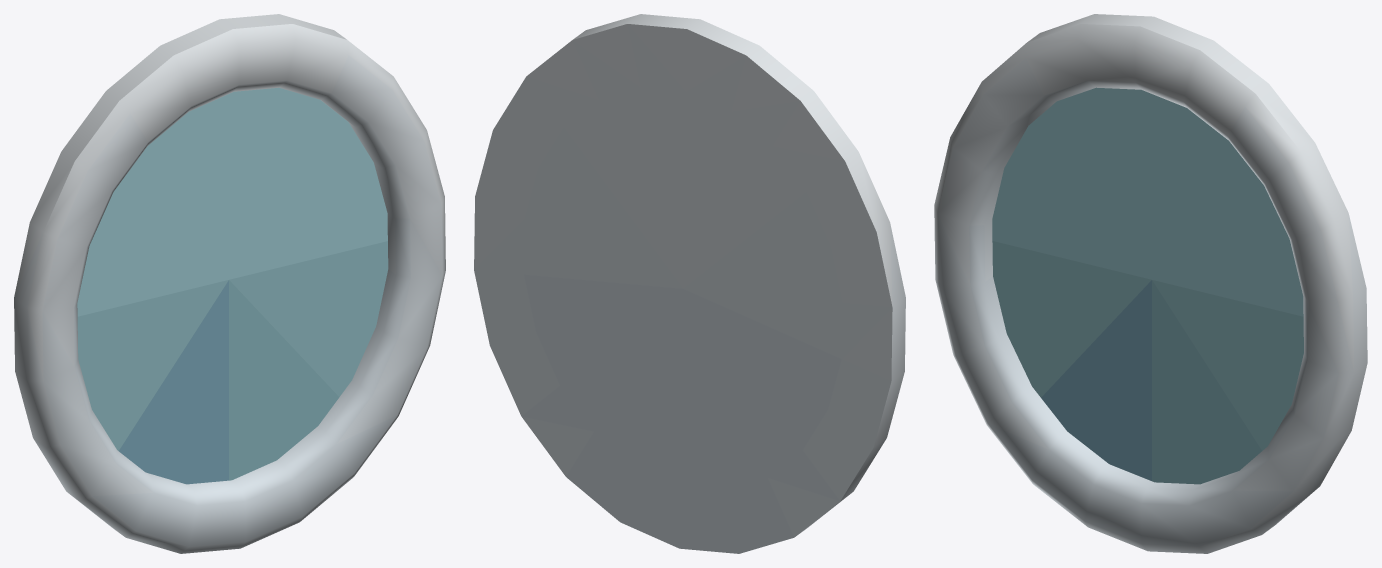
Rendered from mirror.glb.
3 views of the same model, side by side, from view 1: azimuth 30°, elevation 25°; view 2: azimuth 150°, elevation 25°; view 3: azimuth 330°, elevation 25° (orthographic).
Parts seen in each view (by area): view 1: mirror; view 2: mirror; view 3: mirror.
Boxes of the visible parts, box(x1,y1,x2,y2) form: mirror: box(14, 14, 445, 553); mirror: box(474, 14, 905, 553); mirror: box(934, 14, 1367, 553).
Bounding box in the file's own units: 0.42 × 0.5 × 0.0333.
